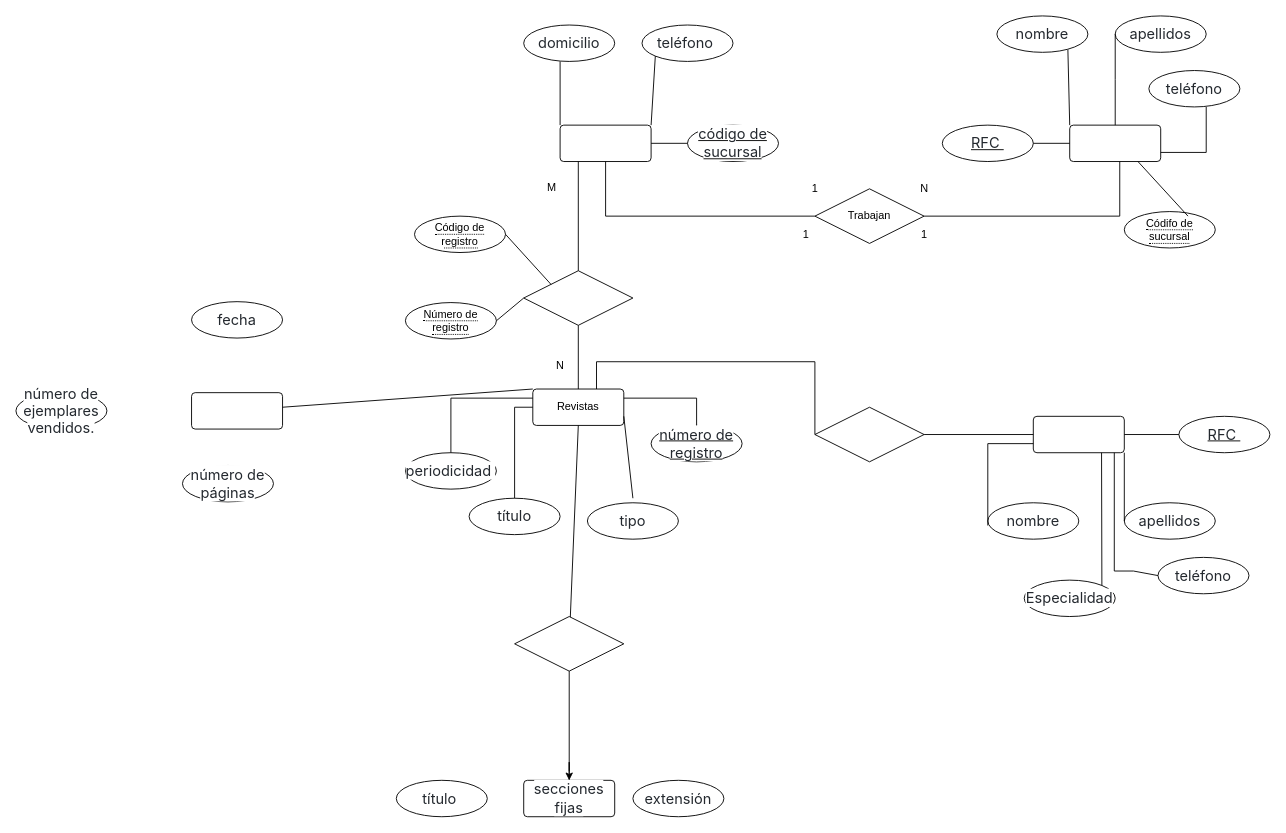
This 1286x833 diagram has some shape labels left out. Here are the shapes that lost their labels. From the top down, the centre of each, then its label:
At point 605,143: "Sucursal".
At point 1115,143: "empleados".
At point 578,297: "Almacen /publica".
At point 237,410: "ejemplar".
At point 869,434: "Escribe".
At point 1078,434: "periodistas".
At point 569,643: "Guardar".
